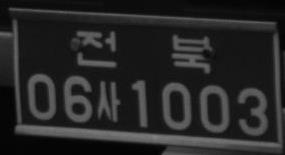0: (199, 83, 230, 132), (161, 81, 192, 129), (26, 73, 56, 119)
1: (127, 79, 154, 127)
3: (237, 86, 269, 136)
6: (62, 73, 93, 123)
사: (95, 81, 120, 122)
전북_D: (75, 29, 212, 73)
